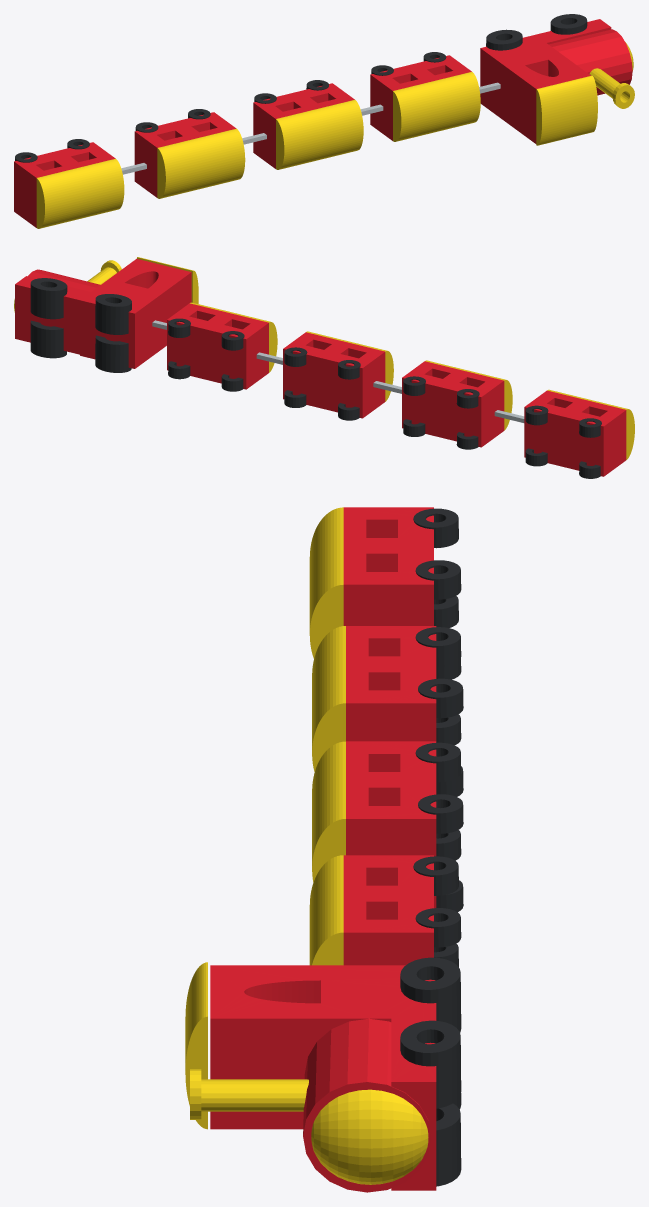
The model's file is tinker.obj.
3 views of the same model, one above another, from view 1: azimuth 30°, elevation 25°; view 2: azimuth 150°, elevation 25°; view 3: azimuth 270°, elevation 25° (orthographic). The views are drawn at different scales.
Visible parts, largest first — view 1: group_0_16768282, group_0_15277357, group_0_2829873, group_0_12568524; view 2: group_0_15277357, group_0_2829873, group_0_16768282, group_0_12568524; view 3: group_0_15277357, group_0_16768282, group_0_2829873.
Boxes of the visible parts, bbox=[...] form: group_0_16768282: bbox=[36, 42, 634, 228]; group_0_15277357: bbox=[14, 19, 632, 227]; group_0_2829873: bbox=[15, 14, 587, 162]; group_0_12568524: bbox=[121, 82, 500, 174]; group_0_15277357: bbox=[15, 258, 626, 476]; group_0_2829873: bbox=[30, 278, 601, 478]; group_0_16768282: bbox=[14, 257, 634, 459]; group_0_12568524: bbox=[152, 320, 524, 422]; group_0_15277357: bbox=[210, 507, 436, 1192]; group_0_16768282: bbox=[185, 507, 428, 1184]; group_0_2829873: bbox=[400, 508, 463, 1186].
Size of the model in its own units: 611 by 66.35 by 123.
